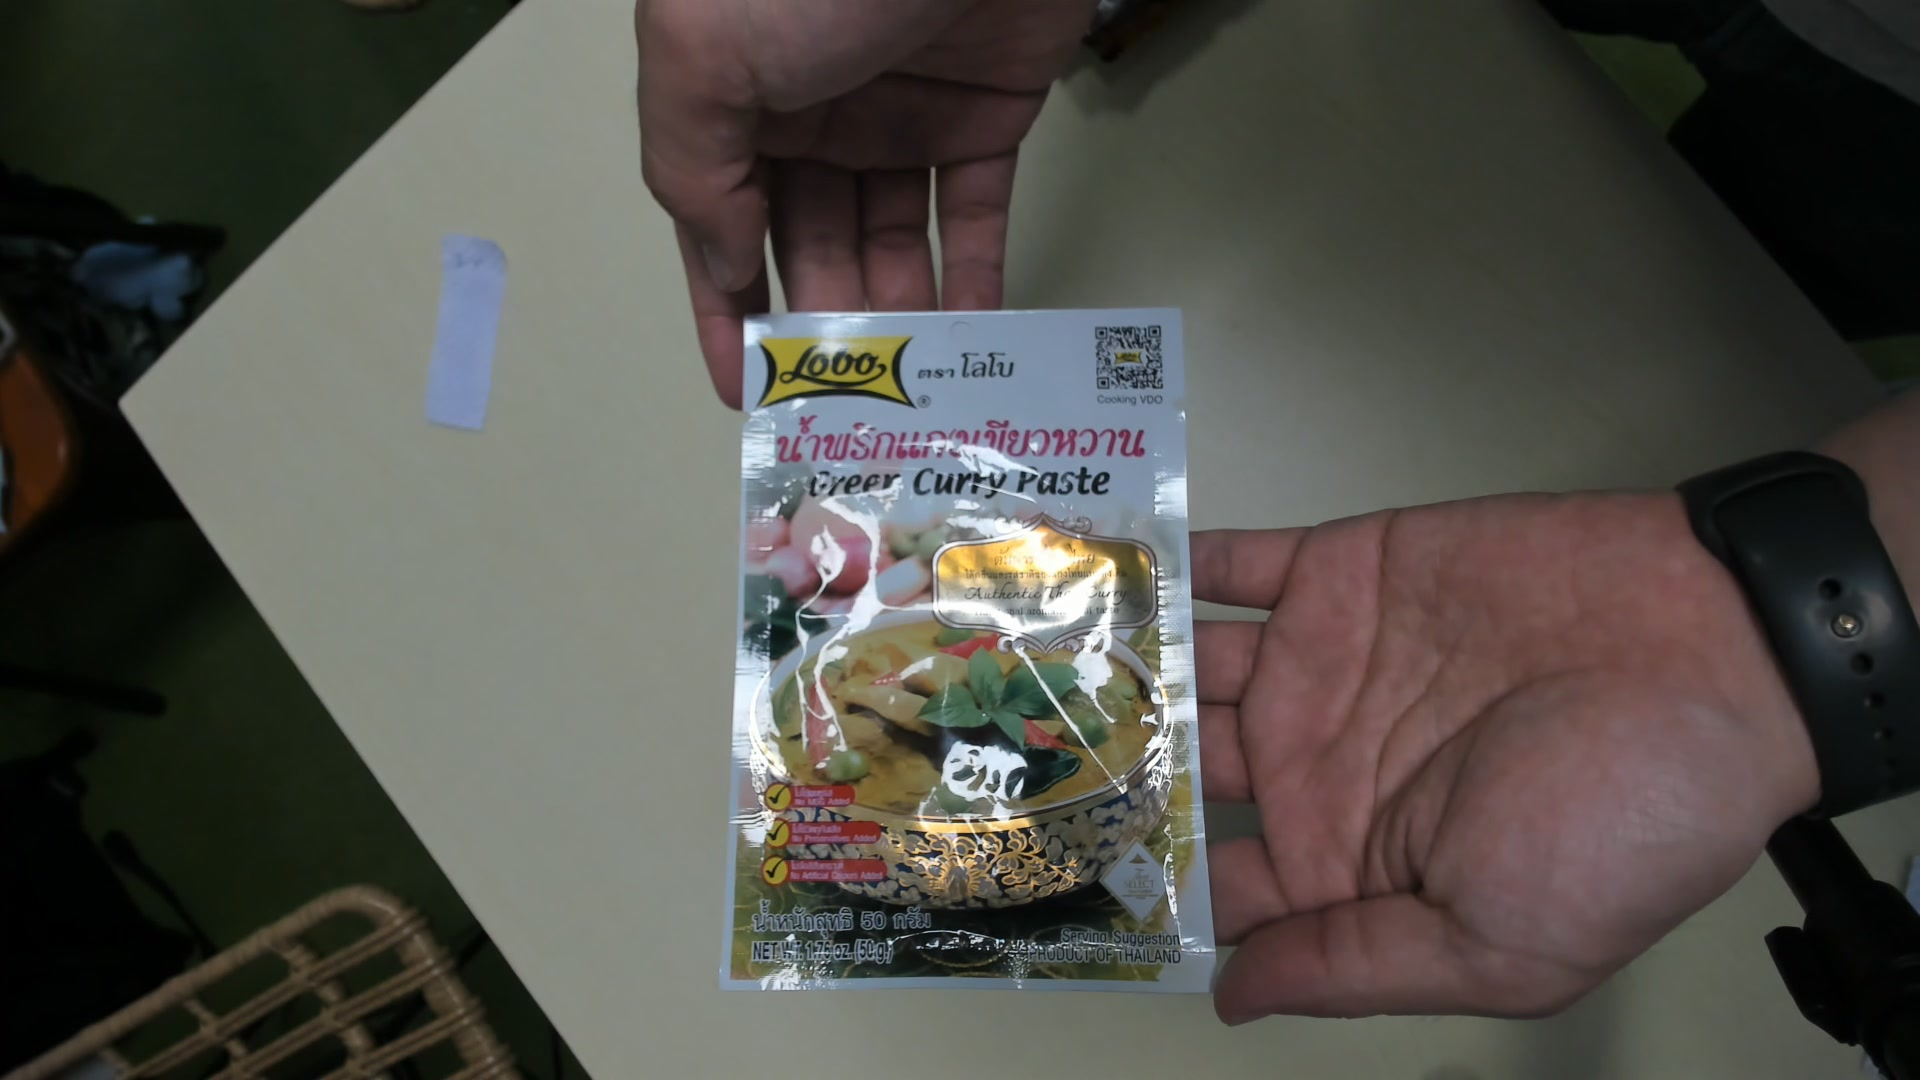OtherSauceDressing_0-99g_Halal_NonHealthy: (738, 322, 1216, 997)
